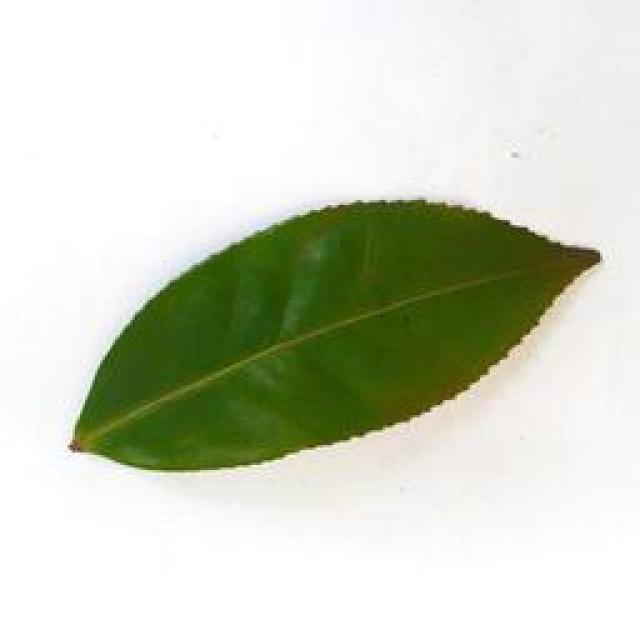Healthy: (60, 189, 610, 480)
